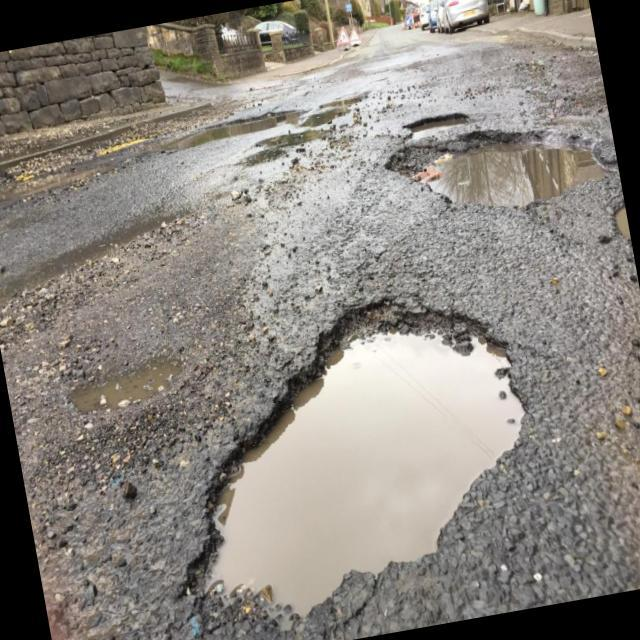Pothole: (146, 266, 561, 638), (392, 106, 618, 244), (48, 325, 195, 425), (164, 104, 302, 151), (392, 98, 478, 148), (305, 105, 347, 134)
